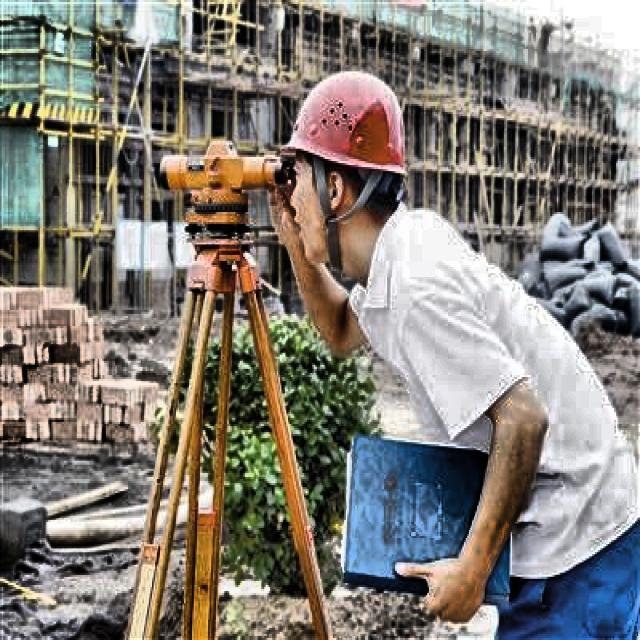helmet: (270, 45, 424, 275)
